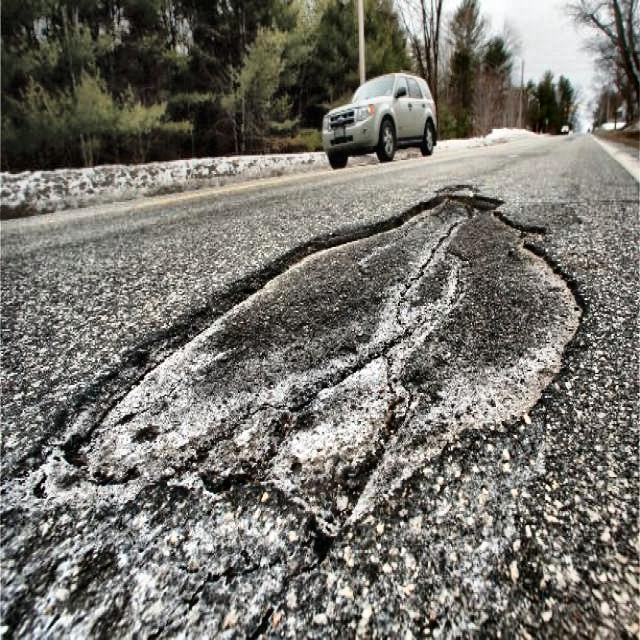Pothole: (57, 173, 590, 538)
